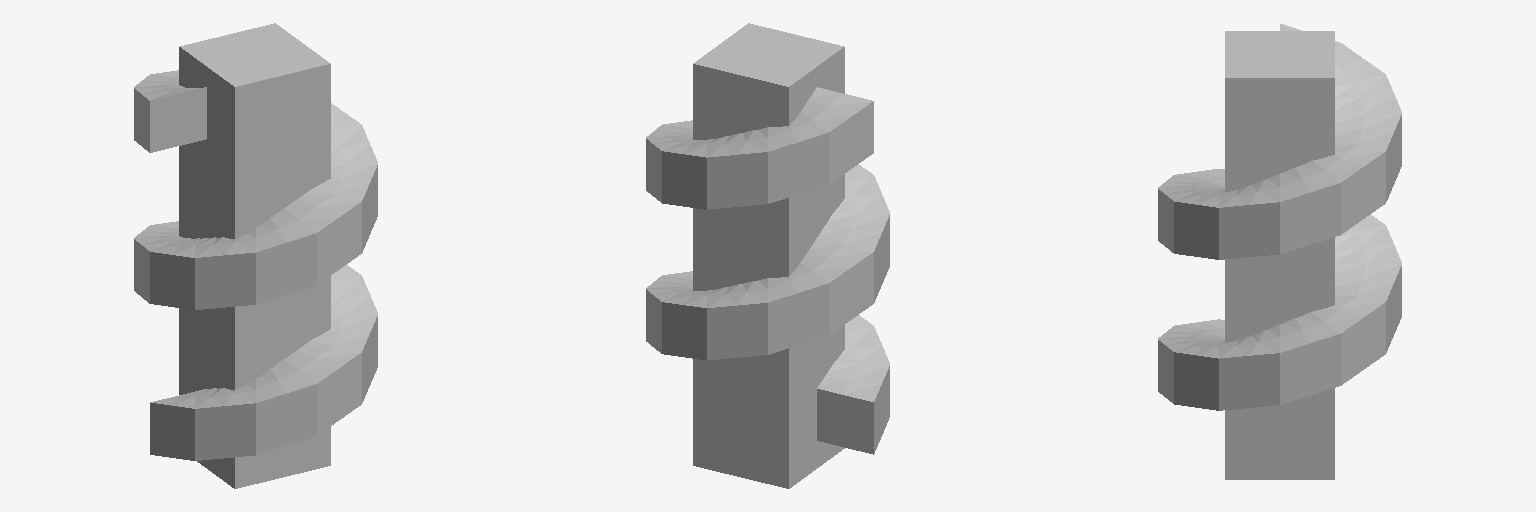
Rendered from worm_gear.obj.
3 views of the same model, side by side, from view 1: azimuth 30°, elevation 25°; view 2: azimuth 150°, elevation 25°; view 3: azimuth 270°, elevation 25° (orthographic).
Visible parts, largest first — view 1: Rings, Axis; view 2: Rings, Axis; view 3: Rings, Axis.
Part boxes in pixels (x1,y1,x2,y2): Rings: (134,70,377,460); Axis: (179,23,330,488); Rings: (646,87,889,454); Axis: (693,23,844,488); Rings: (1158,24,1401,410); Axis: (1225,31,1334,479).
Size of the model in its own units: 0.5518 by 1 by 0.5518.